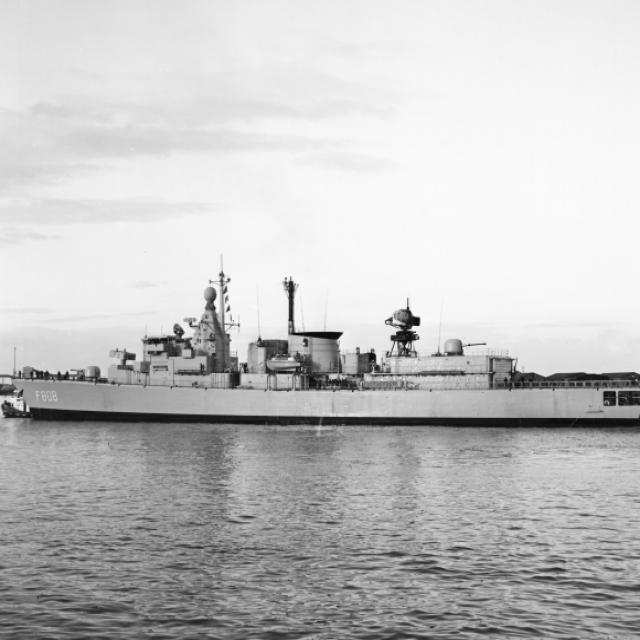Fragata: (4, 242, 640, 430)
